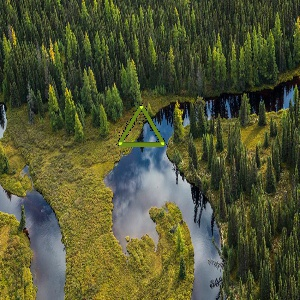triangle: (114, 102, 168, 150)
